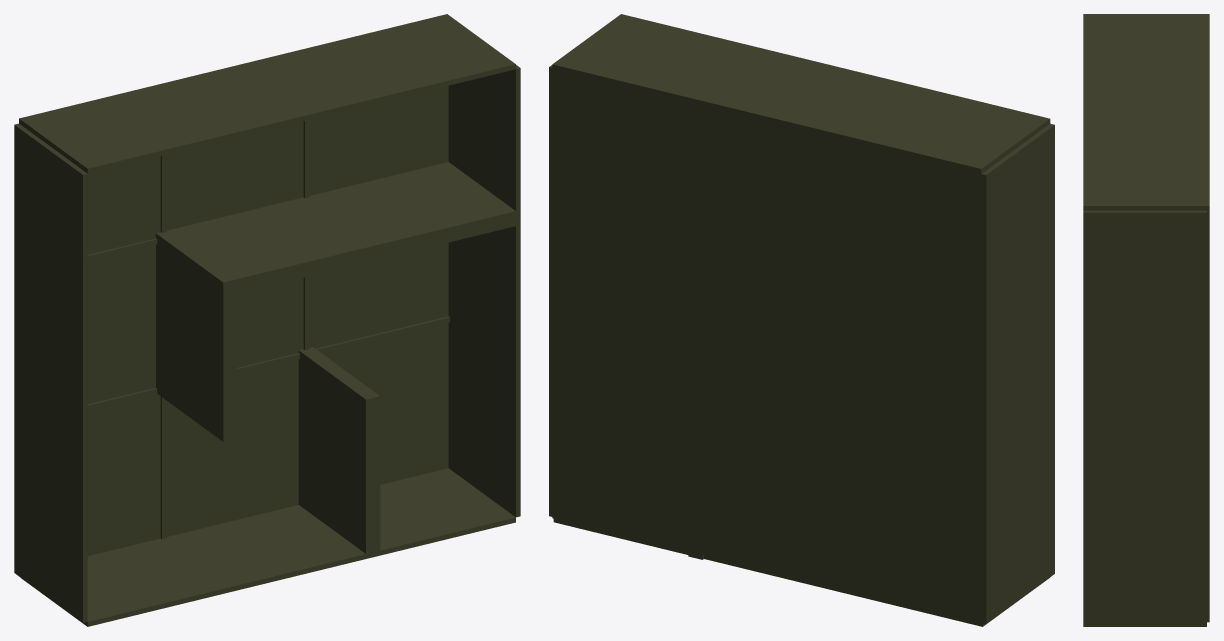
3 views of the same model, side by side, from view 1: azimuth 30°, elevation 25°; view 2: azimuth 150°, elevation 25°; view 3: azimuth 270°, elevation 25° (orthographic). The views are drawn at different scales.
Visible parts, largest first — view 1: Object_6, Object_9, Object_10, Object_8, Object_12, Object_3, Object_1, Object_14, Object_11, Object_4, Object_5; view 2: Object_6, Object_9, Object_10, Object_3, Object_1, Object_5, Object_4, Object_14, Object_12, Object_8, Object_11; view 3: Object_8, Object_10, Object_6, Object_12.
Part boxes in pixels (x1,y1,x2,y2): Object_6: [87, 85, 448, 555]; Object_9: [14, 123, 87, 622]; Object_10: [19, 14, 515, 173]; Object_8: [448, 65, 520, 517]; Object_12: [20, 468, 515, 626]; Object_3: [165, 162, 515, 295]; Object_1: [298, 347, 380, 558]; Object_14: [156, 232, 237, 441]; Object_11: [87, 316, 449, 410]; Object_4: [160, 154, 166, 539]; Object_5: [303, 119, 309, 349]; Object_6: [552, 69, 981, 622]; Object_9: [981, 123, 1054, 623]; Object_10: [552, 14, 1050, 173]; Object_3: [552, 211, 838, 295]; Object_1: [688, 397, 703, 559]; Object_5: [693, 103, 697, 553]; Object_4: [836, 139, 840, 588]; Object_14: [831, 282, 845, 441]; Object_12: [553, 519, 1049, 626]; Object_8: [549, 65, 552, 516]; Object_11: [552, 366, 971, 468]; Object_8: [1083, 210, 1206, 624]; Object_10: [1083, 14, 1209, 210]; Object_6: [1207, 210, 1209, 622]; Object_12: [1083, 624, 1206, 626].
Size of the model in its own units: 184 by 184 by 50.
